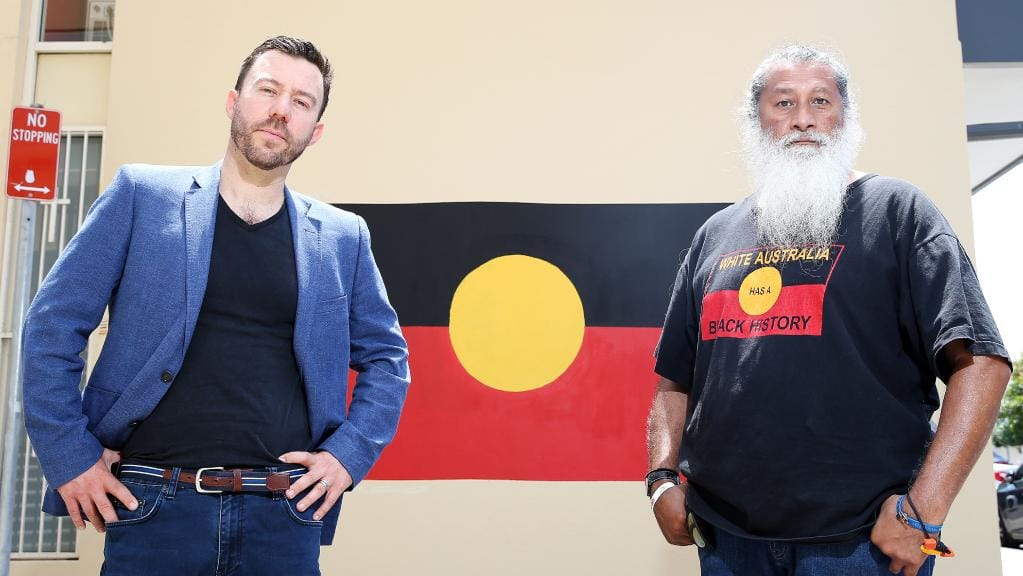aboriginal_flag: (283, 190, 800, 491), (695, 238, 852, 349)
